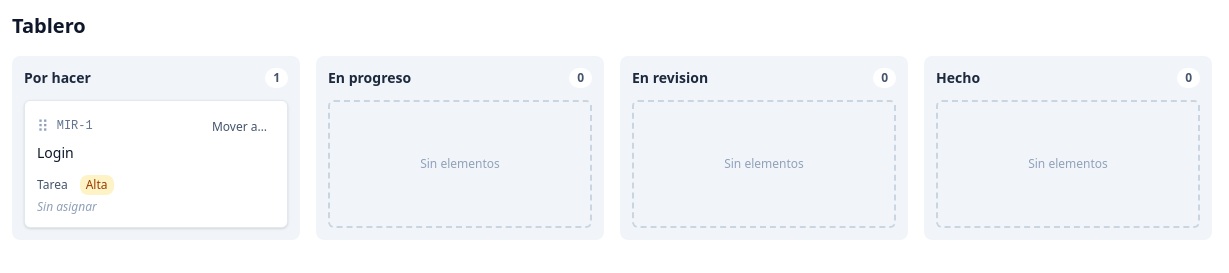
KanbanBoard › mover tarjetas con el menu "Mover a…" (MIR-19) › mueve la tarjeta a la columna elegida y el cambio persiste al refrescar
Click the button "Mover a…": (239, 127) [204,115,275,139]
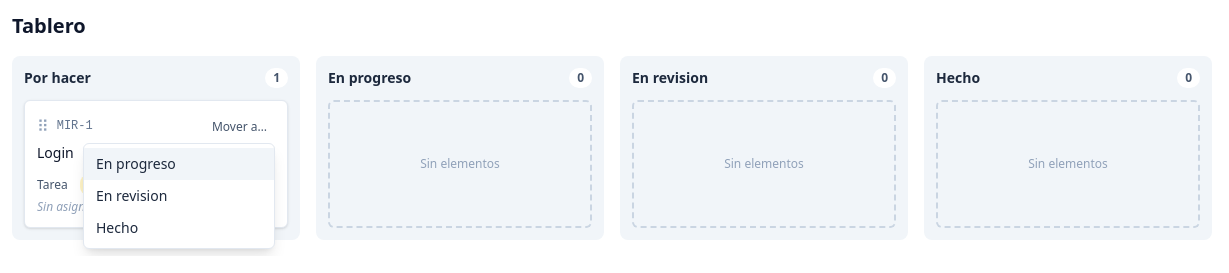
Click the menu item "En revision": (179, 196) [84,180,274,212]
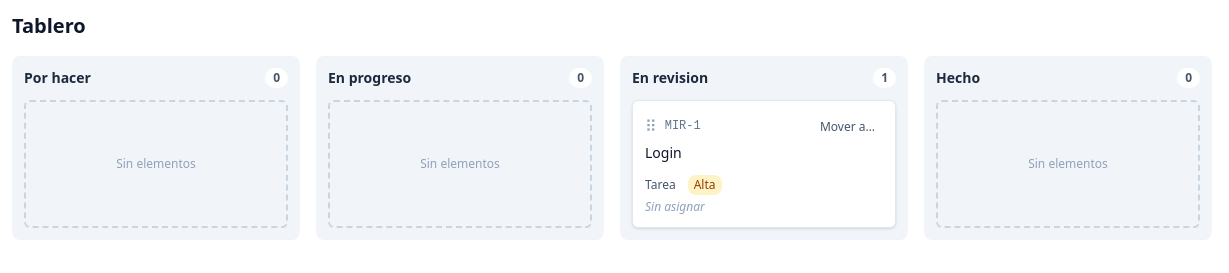
Expected: the link "Login" is shown, [645,143,682,162]
Expected: the menu is gone
